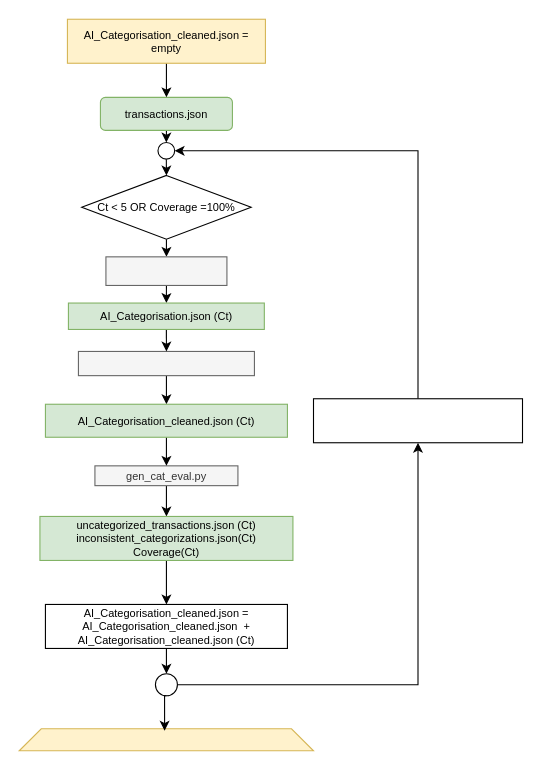
This 542x770 diagram has some shape labels left out. Each missing label, with the centre of its shape:
AI_Categorisation_cleaned.json: the point at 166,739
clean_ai_categorisation.py: the point at 165,363
GenCat.py: the point at 166,270
transactions.json = uncategorized_transactions.json (Ct): the point at 417,420
